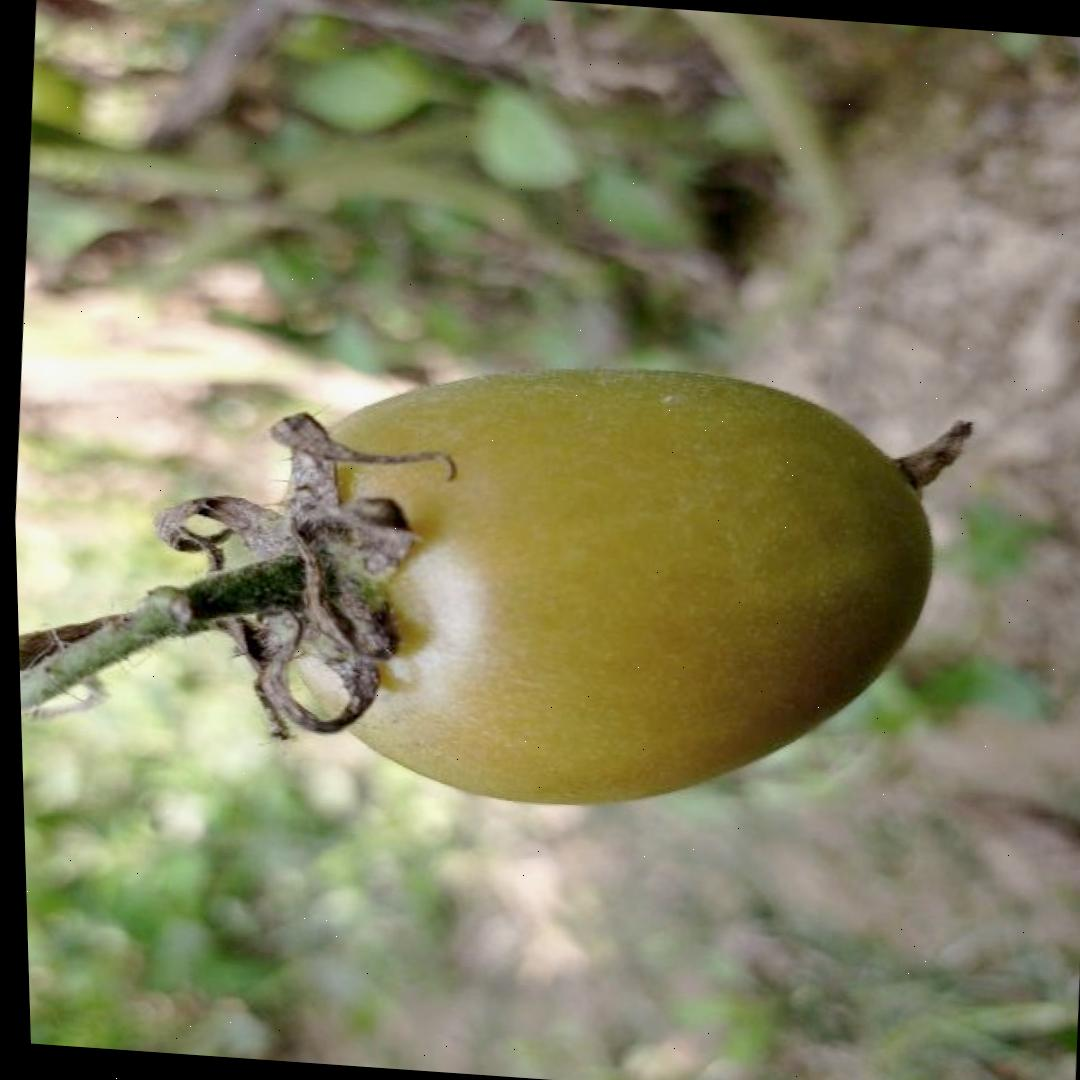setengah_matang: (245, 337, 958, 829)
